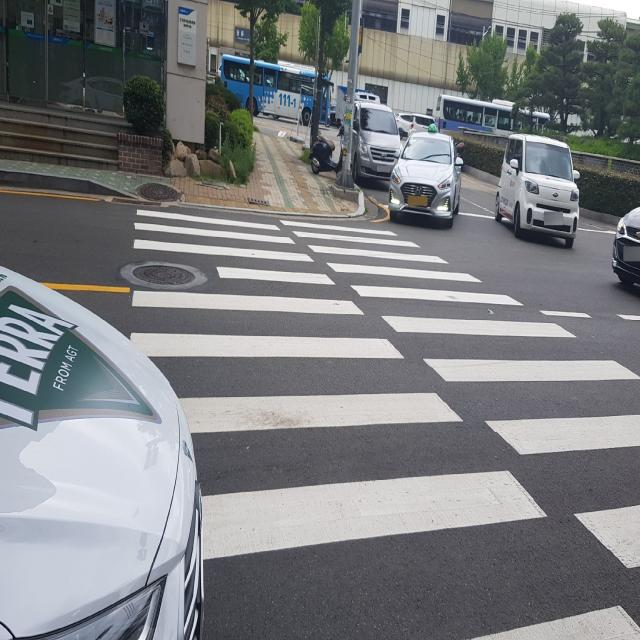횡단보도: (129, 207, 640, 640)
